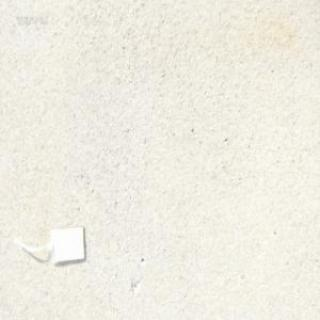LuggageTagtrack_idkeyframe: (10, 223, 87, 268)
